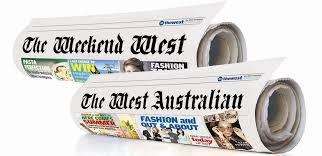Printing industry: (0, 1, 322, 156)
